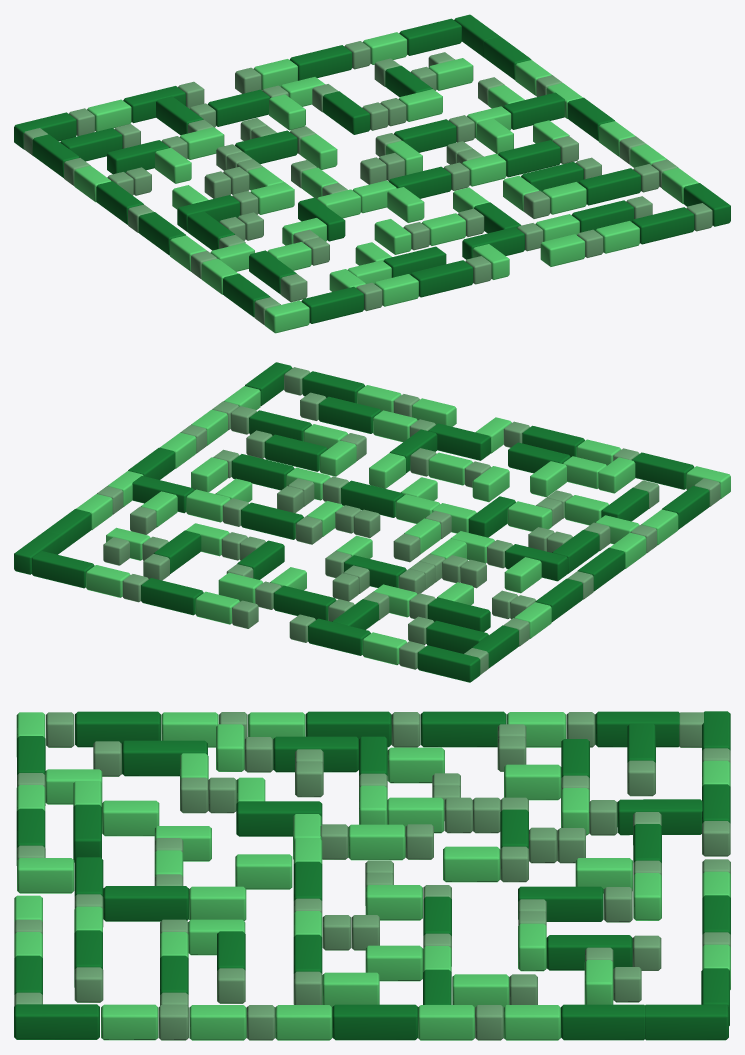
Rendered from SM_Maze_01a.fbx.
The picture shows the model from 3 angles, top to bottom: view 1: azimuth 30°, elevation 25°; view 2: azimuth 150°, elevation 25°; view 3: azimuth 270°, elevation 25°; orthographic projection. The views are drawn at different scales.
Visible parts, largest first — view 1: polySurface49, polySurface1, c1_m4_group2_cespuglio_low22; view 2: polySurface49, polySurface1, c1_m4_group2_cespuglio_low22; view 3: polySurface1, polySurface49, c1_m4_group2_cespuglio_low22.
Part boxes in pixels (<box>): polySurface49: <box>14,14,730,323</box>; polySurface1: <box>74,32,698,333</box>; c1_m4_group2_cespuglio_low22: <box>23,41,712,325</box>; polySurface49: <box>14,362,709,682</box>; polySurface1: <box>76,385,730,665</box>; c1_m4_group2_cespuglio_low22: <box>97,367,720,674</box>; polySurface1: <box>14,712,730,1040</box>; polySurface49: <box>14,711,730,1040</box>; c1_m4_group2_cespuglio_low22: <box>14,712,730,1040</box>.
Bounding box in the file's own units: 2523 × 102 × 2504.
